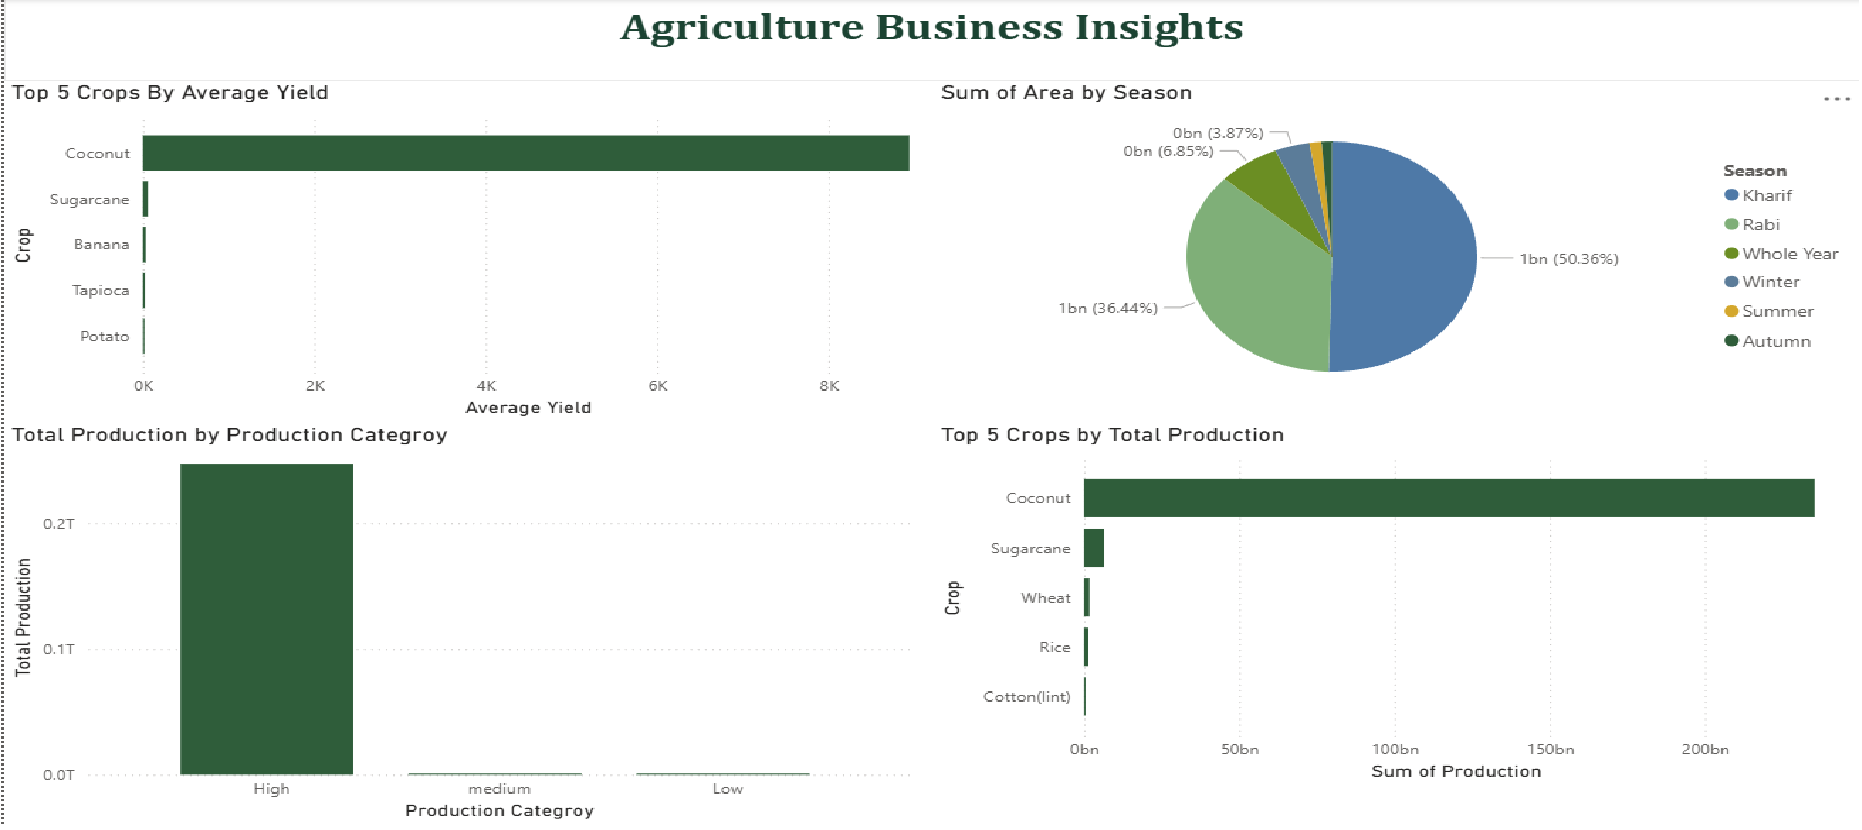

The dashboard page shown, as its layout file describes it:
{"tool":"powerbi","page":{"name":"Agriculture Business Insights","canvas":[1280,720],"ordinal":2},"visuals":[{"type":"clusteredBarChart","title":"Top 5 Crops by Total Production","fields":{"Category":["Sheet1.Crop"],"Y":["Sum(Sheet1.Production)"]},"box":[640.8,369.3,639.5,316.7],"z":1000},{"type":"clusteredBarChart","title":"Top 5 Crops By Average Yield","fields":{"Category":["Sheet1.Crop"],"Y":["Sheet1.Average Yield"]},"box":[0,70.9,639.5,298.4],"z":2000},{"type":"clusteredColumnChart","fields":{"Category":["Sheet1.Production Categroy"],"Y":["Sheet1.Total Production"]},"box":[0,369.3,629.8,351],"z":3000},{"type":"pieChart","fields":{"Category":["Sheet1.Season"],"Y":["Sum(Sheet1.Area )"]},"box":[640.8,70.9,638.3,288.6],"z":3001},{"type":"textbox","box":[0,0,1279.1,70.9],"z":3002}]}

Visuals, with their boxes on the page's 1280x720 design canvas (x1, y1, x2, y2). These are canvas units, not pixel positions in the 1862x830 screenshot, which may show the page scaled, cropped or inside an application window:
"Top 5 Crops by Total Production" clusteredBarChart: (641,369,1280,686)
"Top 5 Crops By Average Yield" clusteredBarChart: (0,71,640,369)
clusteredColumnChart - Sheet1.Production Categroy x Sheet1.Total Production: (0,369,630,720)
pieChart - Sheet1.Season x Sum(Sheet1.Area ): (641,71,1279,360)
textbox: (0,0,1279,71)
